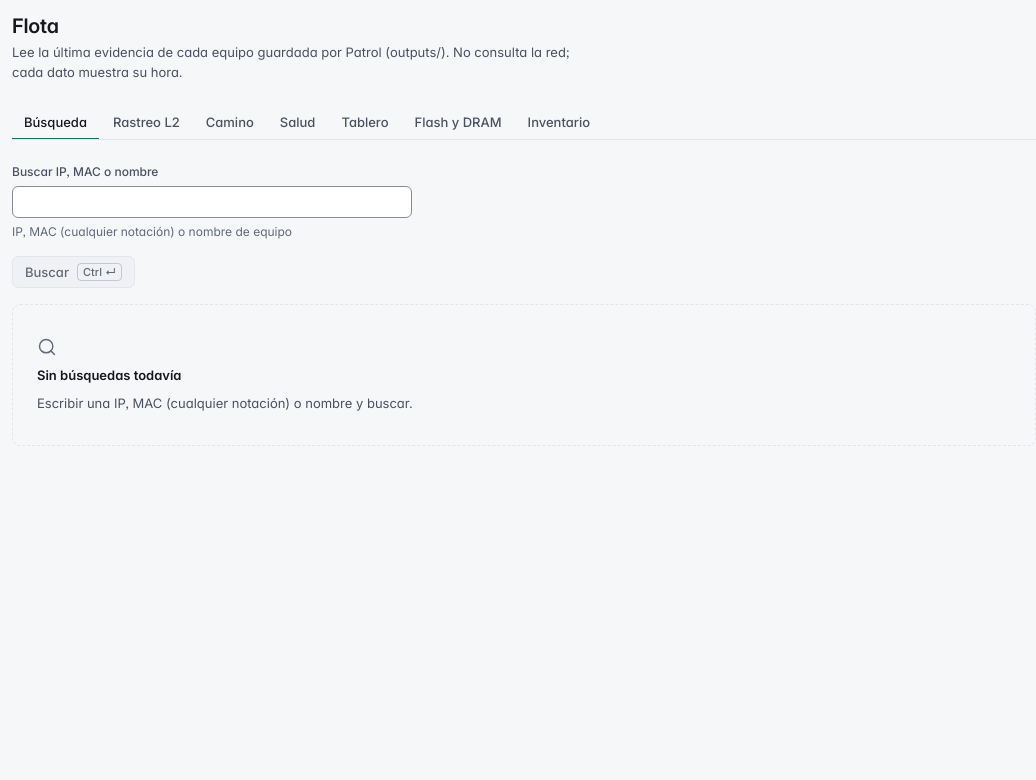
Test: el rastreo muestra el puerto de acceso o avisa que no llegó
Click the tab "Rastreo L2": (146, 123) x1=101 y1=106 x2=192 y2=140
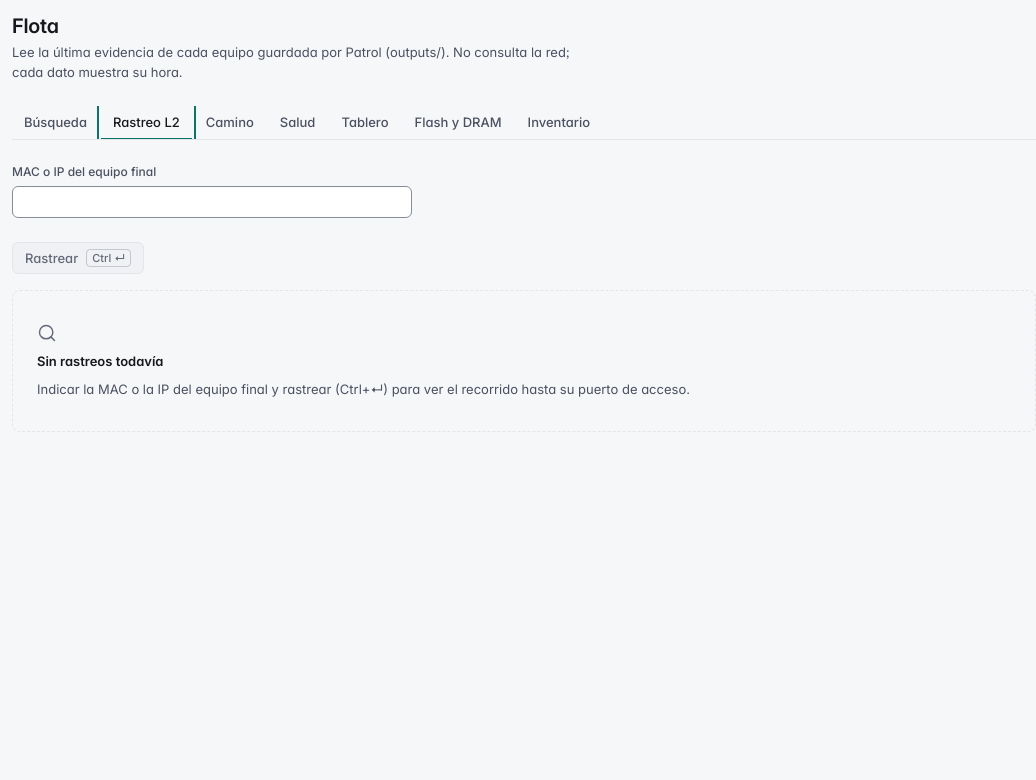
In the field labelled "MAC o IP del equipo final": (212, 202) x1=12 y1=186 x2=412 y2=218, type "10.1.10.20"
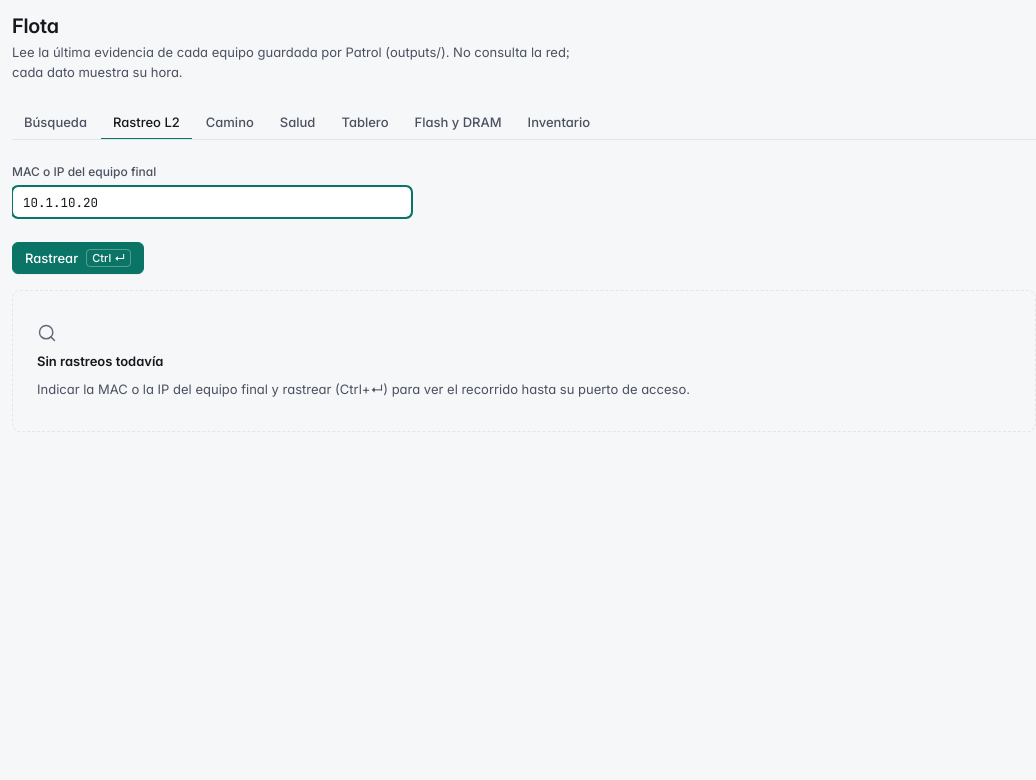
Click the button "Rastrear Ctrl ↵": (78, 258) x1=12 y1=242 x2=144 y2=274
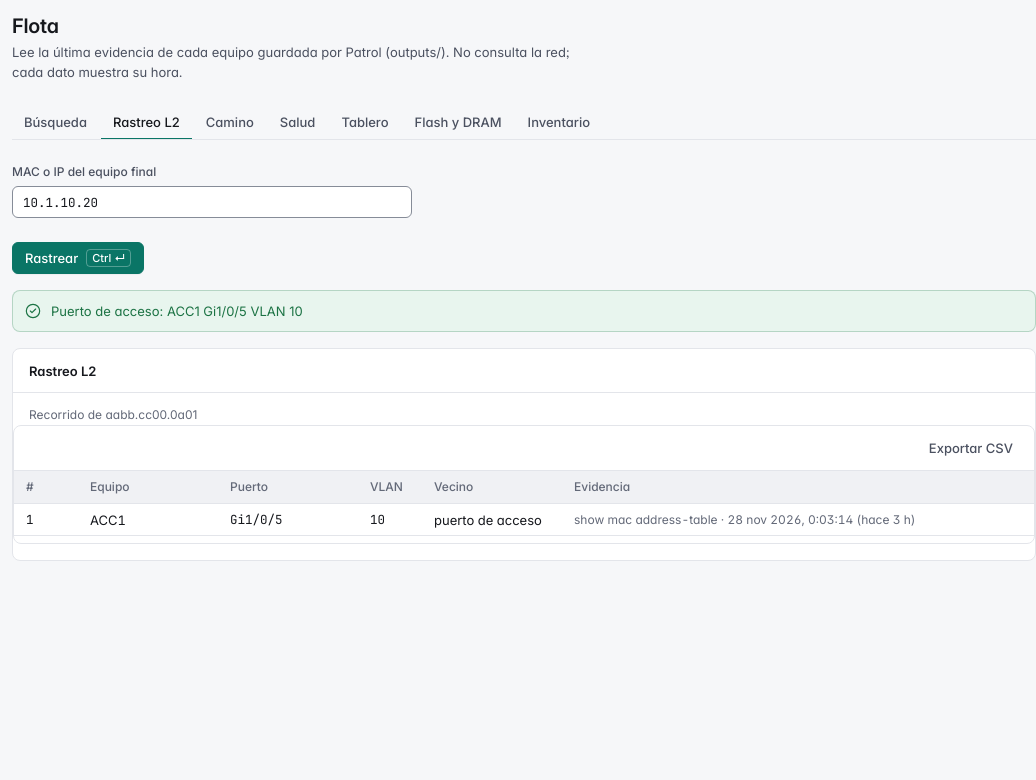
Expected: the text "Puerto de acceso: ACC1 Gi1/0/5 VLAN 10" is shown, x1=51 y1=303 x2=303 y2=319
Click the button "Rastrear Ctrl ↵": (78, 258) x1=12 y1=242 x2=144 y2=274
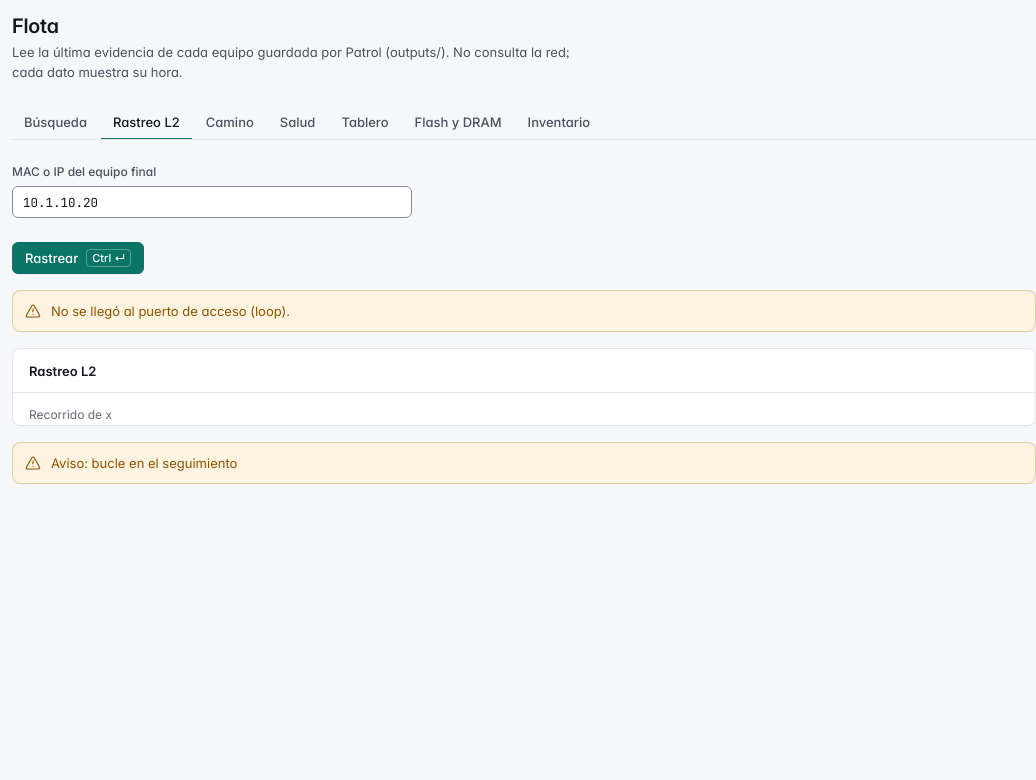
Expected: the text "No se llegó al puerto de acceso (loop)." is shown, x1=12 y1=290 x2=1035 y2=332
Expected: the list item "Aviso: bucle en el seguimiento" is shown, x1=51 y1=455 x2=237 y2=471
